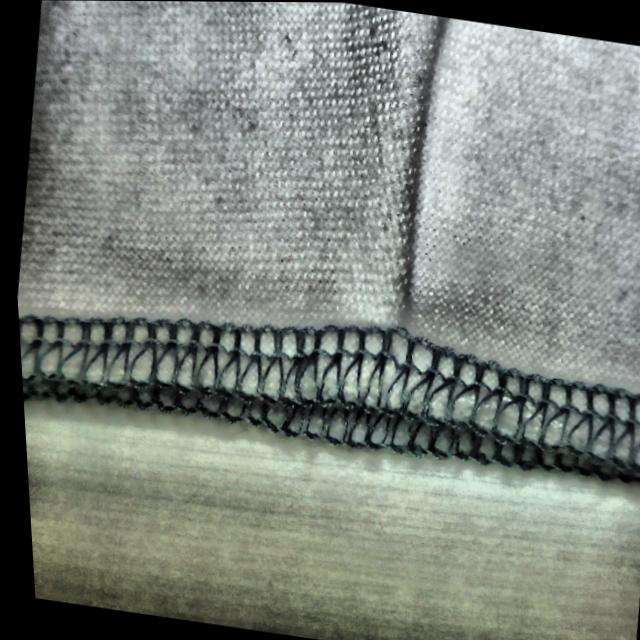seam: (307, 115, 478, 418)
